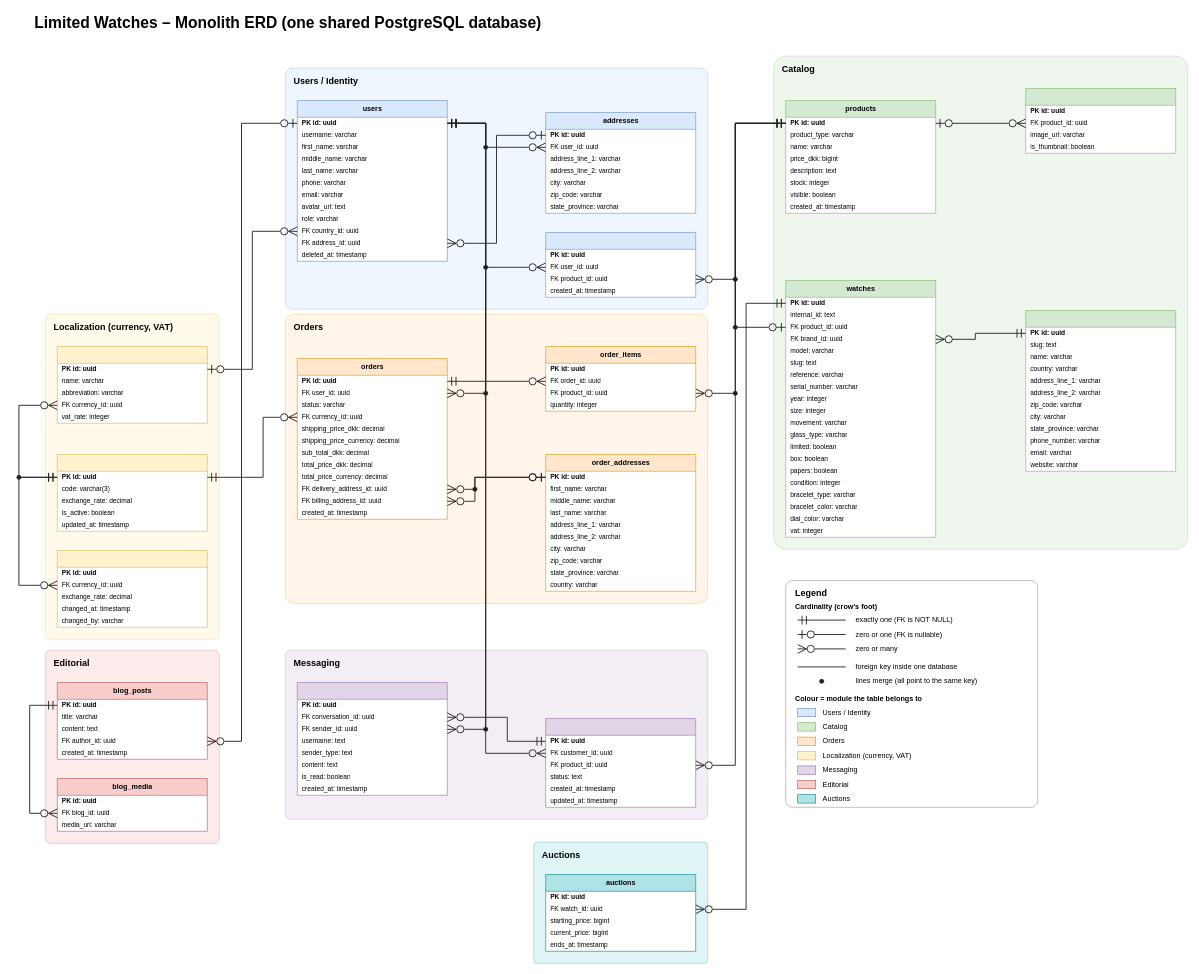
Some shapes in this 1199 by 974 pixel diagram are drawn without their labels. The box of each missing label's shape, as (x1, y1, x2, y2) in pixels:
brands: (1025, 310, 1176, 471)
conversations: (545, 718, 696, 807)
countries: (57, 346, 207, 423)
currencies: (57, 454, 207, 531)
currency_history: (57, 550, 207, 627)
favorites: (545, 232, 696, 297)
messages: (297, 682, 447, 795)
product_images: (1025, 88, 1176, 153)
